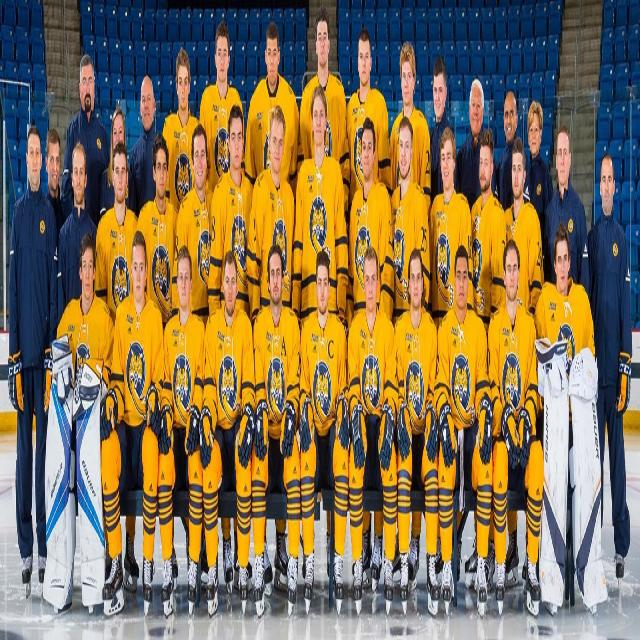body: (528, 219, 609, 619), (41, 226, 118, 620), (290, 79, 349, 580), (98, 222, 166, 628), (6, 121, 59, 600), (344, 112, 396, 595), (432, 240, 494, 621), (485, 236, 544, 620), (200, 245, 258, 620), (93, 139, 140, 595), (463, 125, 508, 593), (247, 237, 301, 618), (586, 150, 633, 586), (388, 112, 430, 596), (344, 242, 398, 618), (386, 245, 440, 620), (296, 246, 350, 618), (503, 133, 544, 588), (158, 242, 206, 618), (297, 2, 351, 218), (246, 103, 296, 331), (243, 21, 300, 206), (208, 103, 254, 323), (428, 123, 474, 336), (344, 24, 391, 215), (60, 52, 110, 230), (172, 123, 214, 328), (388, 39, 432, 228), (544, 124, 589, 307), (136, 132, 178, 327), (199, 19, 245, 194), (56, 139, 98, 328), (162, 49, 200, 212), (454, 74, 498, 208), (522, 98, 555, 252), (127, 71, 159, 221), (494, 88, 529, 214), (429, 52, 457, 208), (98, 106, 134, 216), (42, 123, 66, 259)
